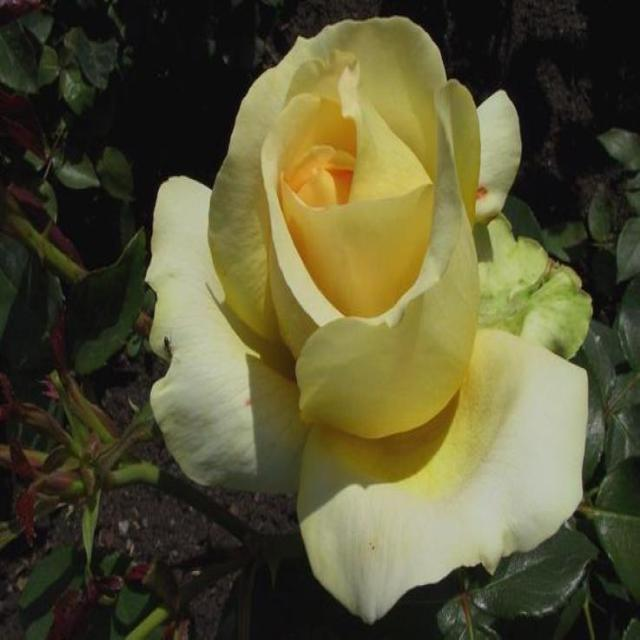rose: (121, 16, 612, 612)
